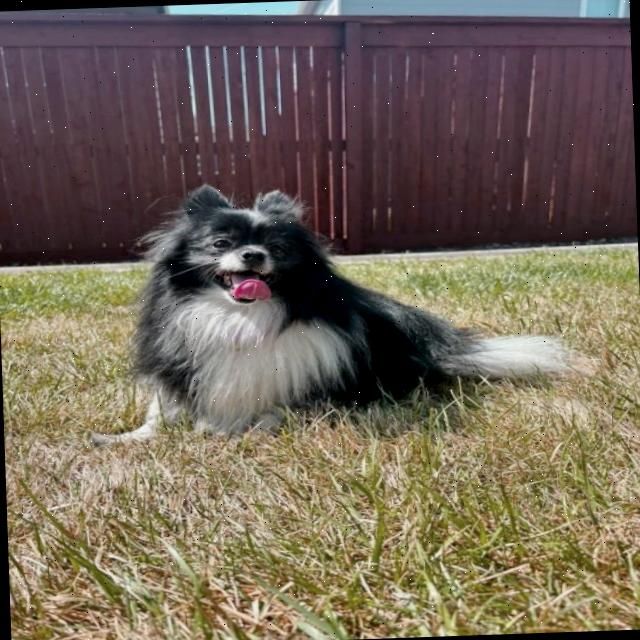pomeranian_dog: (137, 174, 340, 346)
